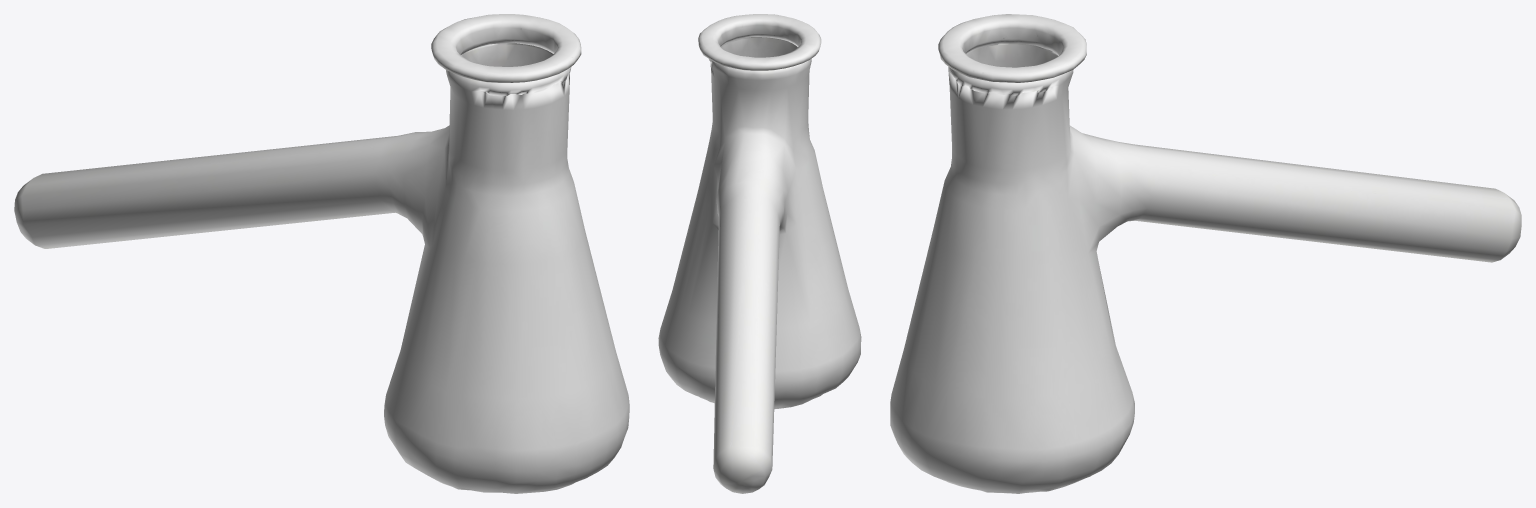
Rendered from 250ml_side_arm_flask_1778772925.glb.
3 renders of one model, left to right at view 1: azimuth 30°, elevation 25°; view 2: azimuth 150°, elevation 25°; view 3: azimuth 270°, elevation 25°, orthographic. The views are drawn at different scales.
Visible parts, largest first — view 1: tripo_node_a95803cf-306c-4104-885e-15691a3cd67f; view 2: tripo_node_a95803cf-306c-4104-885e-15691a3cd67f; view 3: tripo_node_a95803cf-306c-4104-885e-15691a3cd67f.
Boxes of the visible parts, x1,y1,x2,y2 form: tripo_node_a95803cf-306c-4104-885e-15691a3cd67f: [14, 14, 629, 493]; tripo_node_a95803cf-306c-4104-885e-15691a3cd67f: [658, 14, 861, 493]; tripo_node_a95803cf-306c-4104-885e-15691a3cd67f: [890, 14, 1521, 493].
Size of the model in its own units: 0.6465 by 0.7246 by 0.998.
Materials: 1 (1 with a texture image).
